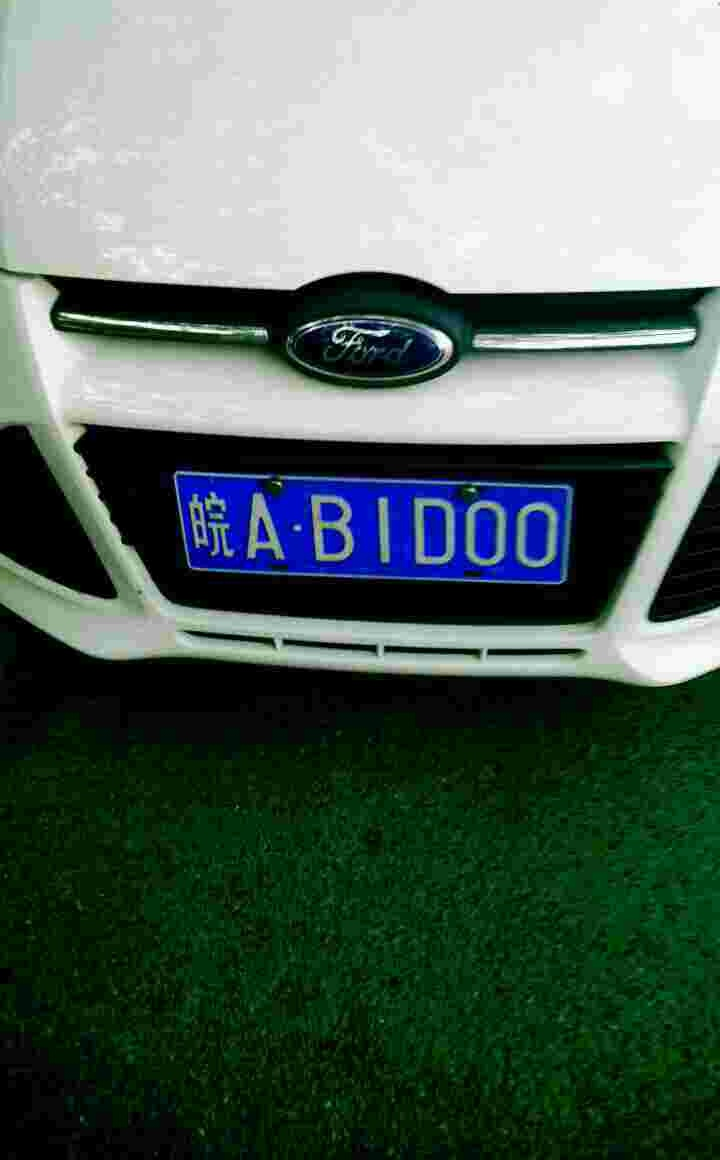car_blue: (168, 459, 583, 596)
